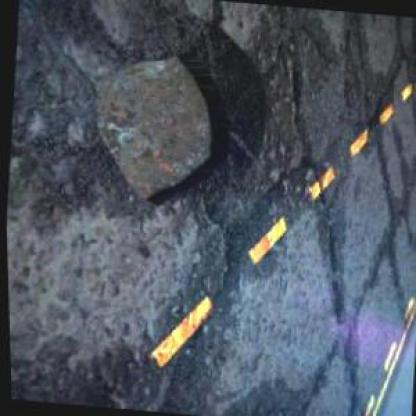pothole: (79, 44, 239, 214)
